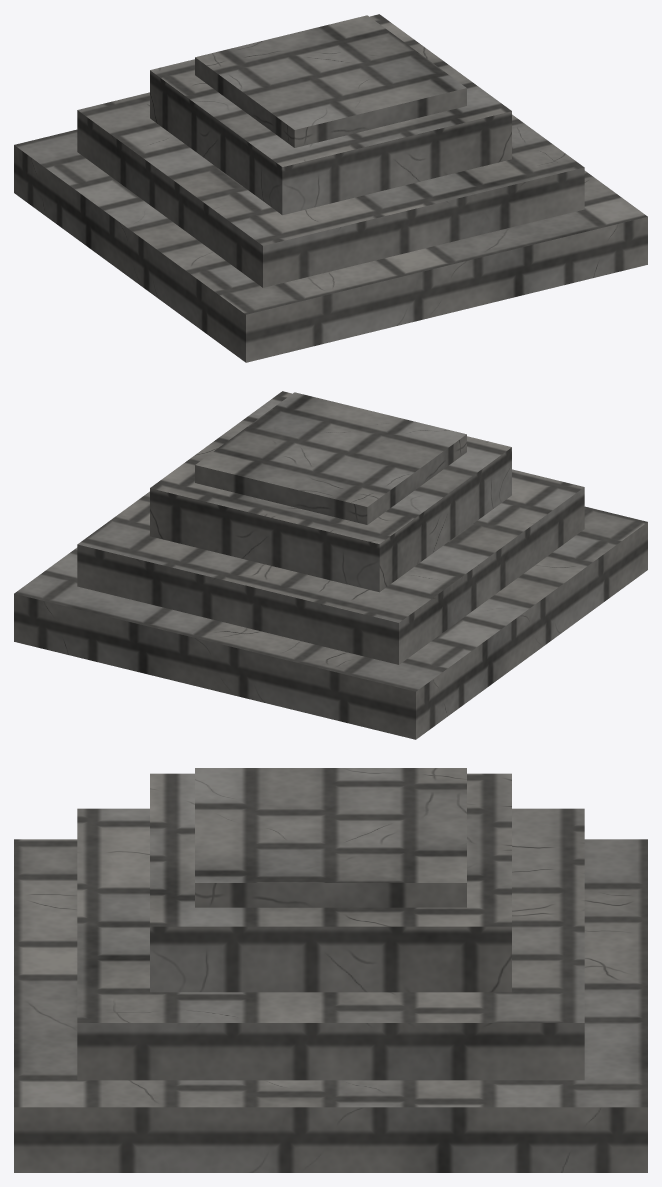
File: shrine.glb
3 renders of one model, top to bottom at view 1: azimuth 30°, elevation 25°; view 2: azimuth 150°, elevation 25°; view 3: azimuth 270°, elevation 25°, orthographic. The views are drawn at different scales.
Parts seen in each view (by area): view 1: shrine; view 2: shrine; view 3: shrine.
Boxes of the visible parts, <box> form: shrine: <box>14,14,647,362</box>; shrine: <box>14,391,647,739</box>; shrine: <box>14,768,647,1172</box>.
Bounding box in the file's own units: 1.4 × 0.52 × 1.4.
1 material, 1 textured.
